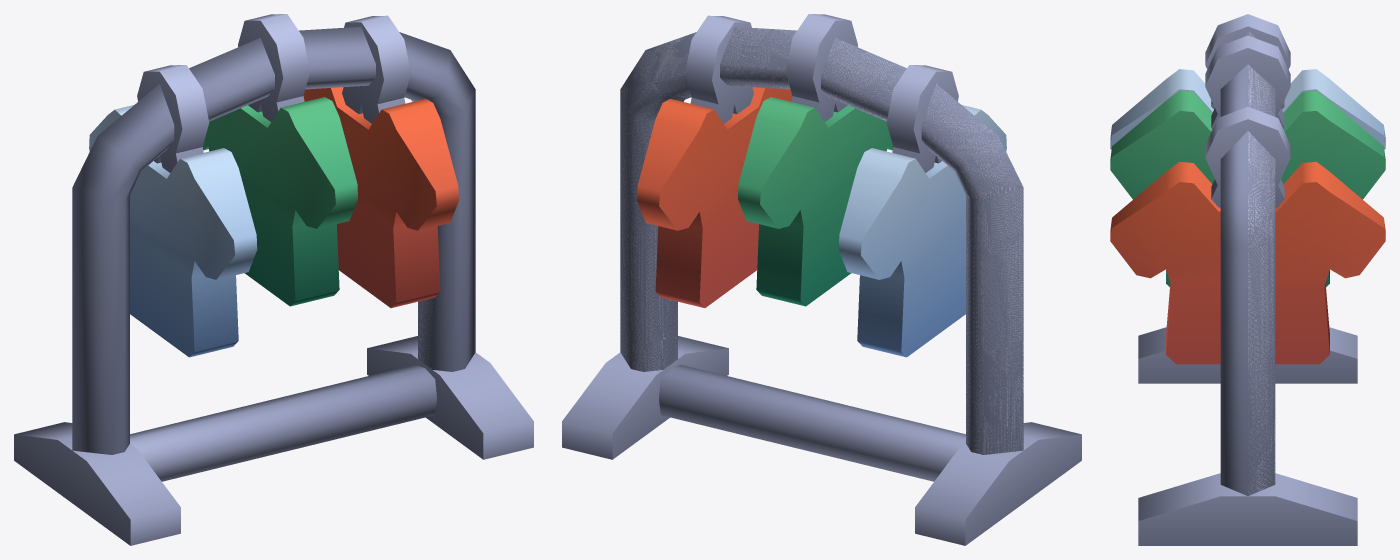
The model's file is clothing-rack.obj.
3 renders of one model, left to right at view 1: azimuth 30°, elevation 25°; view 2: azimuth 150°, elevation 25°; view 3: azimuth 270°, elevation 25°, orthographic. The views are drawn at different scales.
Parts seen in each view (by area): view 1: clothing-rack; view 2: clothing-rack; view 3: clothing-rack.
Part boxes in pixels (<box>): clothing-rack: <box>14,14,533,545</box>; clothing-rack: <box>562,14,1081,545</box>; clothing-rack: <box>1110,14,1385,545</box>.
Bounding box in the file's own units: 0.8 × 0.828 × 0.5021.
1 material, 1 textured.
